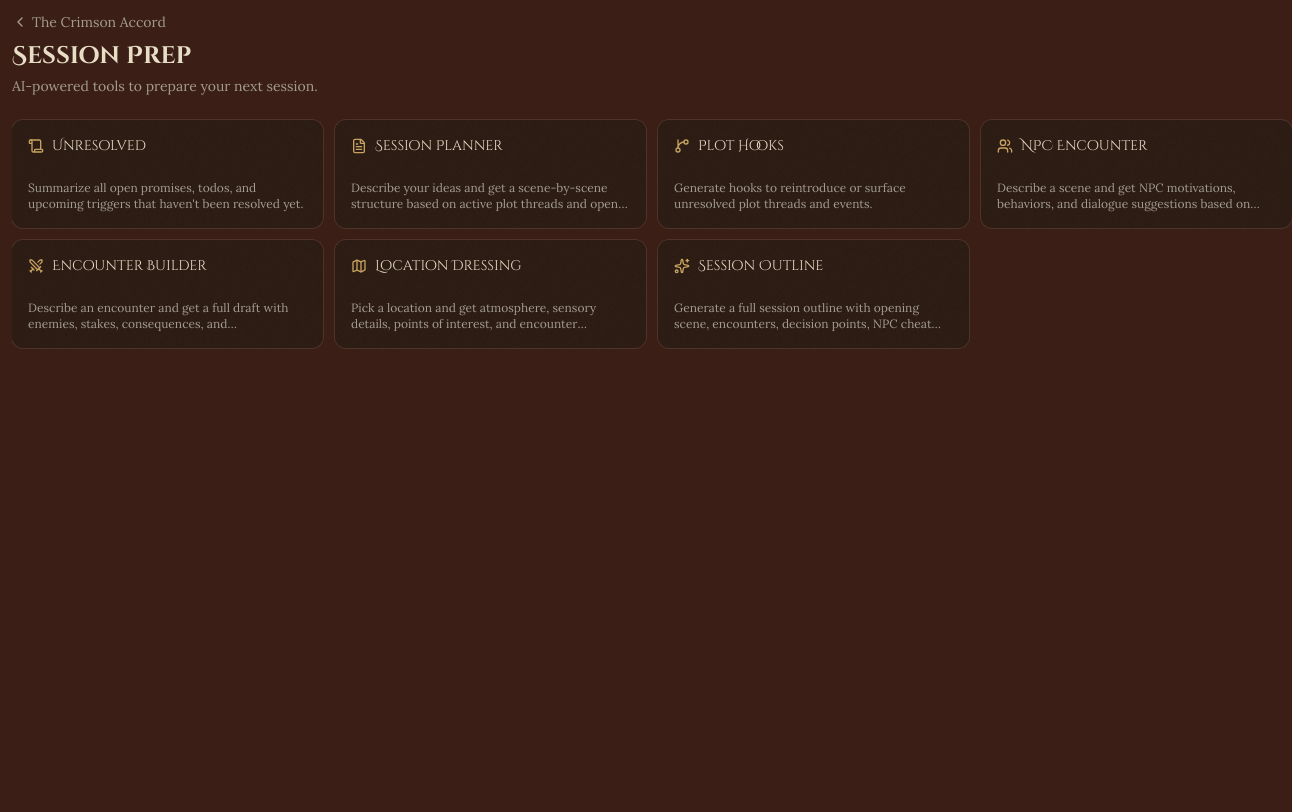
Test case: SessionPrep › shows textarea input for session planner tool
Click the text "Session Planner".
click(490, 174)  # box [335,120,646,228]
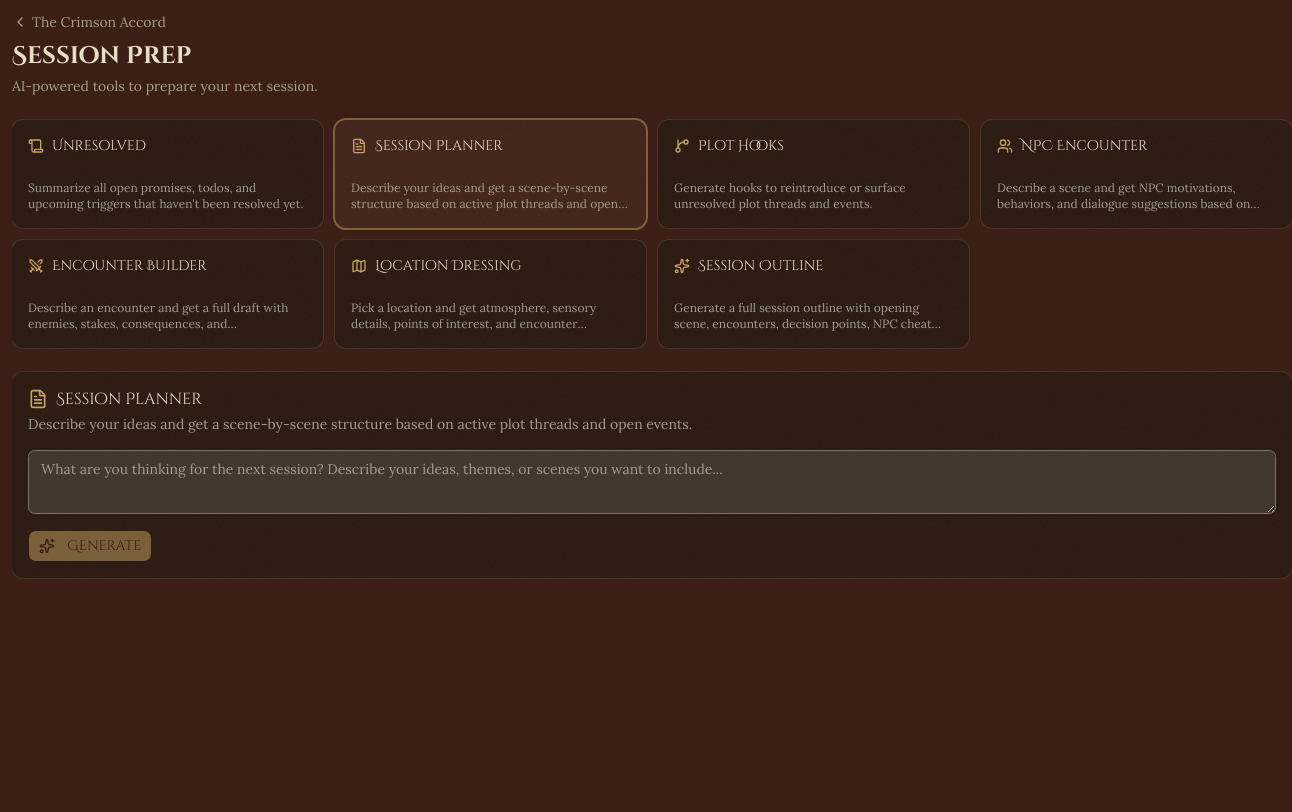
Now the text box with placeholder "What are you thinking" is shown, box [28,450,1276,514]
